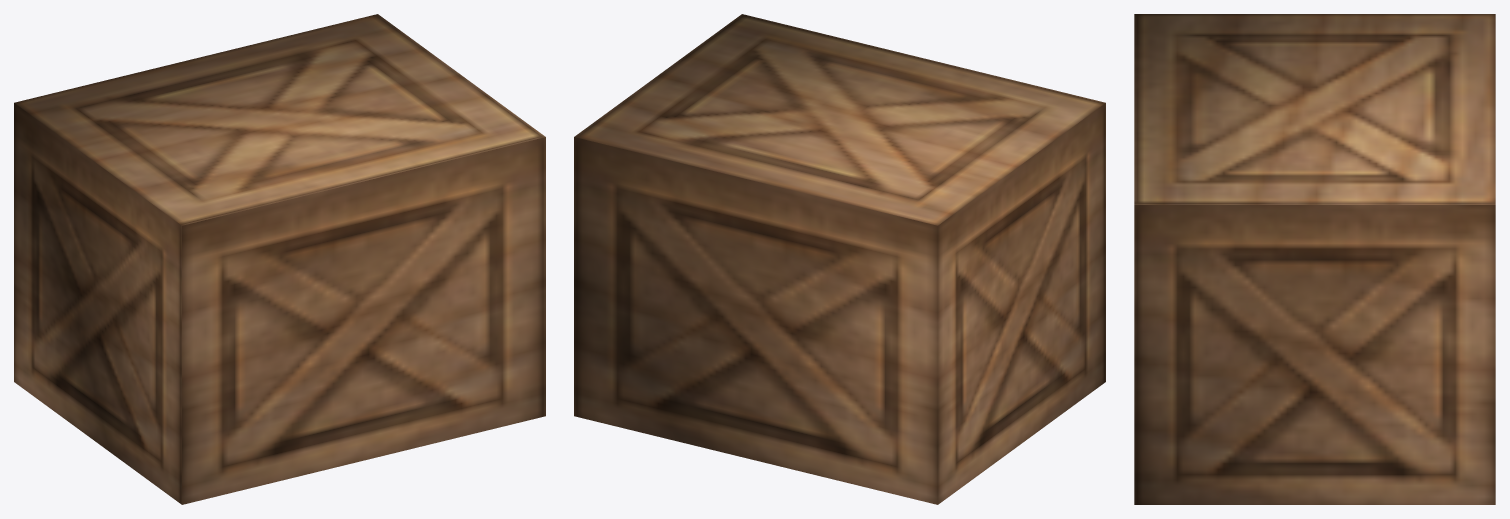
The model's file is a_SEfarm02.glb.
The picture shows the model from 3 angles, left to right: view 1: azimuth 30°, elevation 25°; view 2: azimuth 150°, elevation 25°; view 3: azimuth 270°, elevation 25°; orthographic projection. The views are drawn at different scales.
Visible parts, largest first — view 1: a_SEfarm02; view 2: a_SEfarm02; view 3: a_SEfarm02.
Part boxes in pixels (left/top/right/bottom): a_SEfarm02: left=14, top=14, right=545, bottom=504; a_SEfarm02: left=574, top=14, right=1105, bottom=504; a_SEfarm02: left=1134, top=14, right=1495, bottom=504.
Bounding box in the file's own units: 0.75 × 0.55 × 0.6.
Materials: 1 (1 with a texture image).
